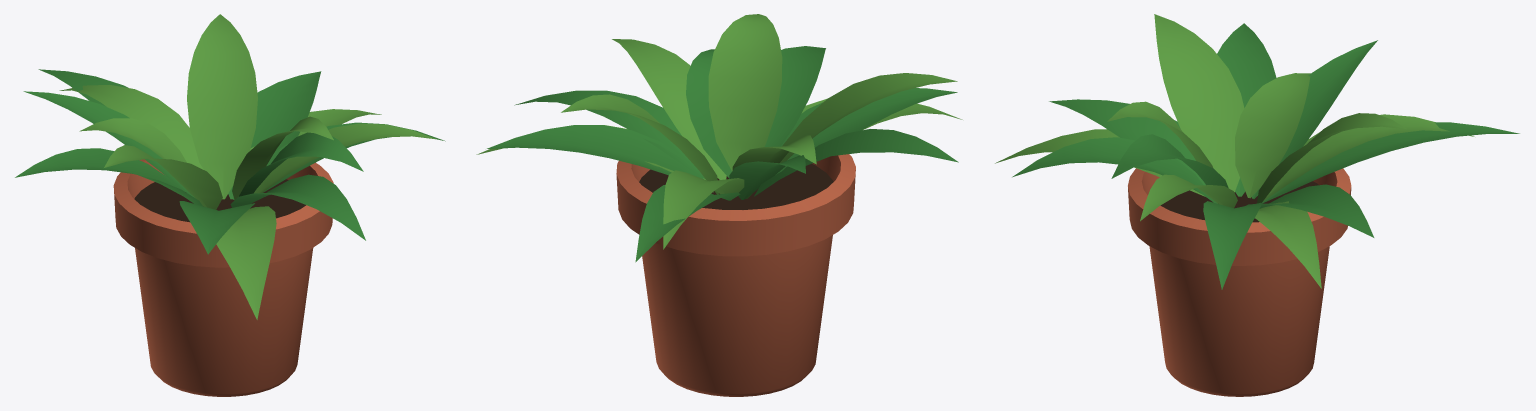
File: plant.glb
3 views of the same model, side by side, from view 1: azimuth 30°, elevation 25°; view 2: azimuth 150°, elevation 25°; view 3: azimuth 270°, elevation 25° (orthographic). The views are drawn at different scales.
Visible parts, largest first — view 1: Plant; view 2: Plant; view 3: Plant.
Boxes of the visible parts, x1,y1,x2,y2 form: Plant: [15, 14, 445, 396]; Plant: [476, 14, 962, 396]; Plant: [995, 14, 1519, 396].
Bounding box in the file's own units: 0.5288 × 0.3299 × 0.5669.
